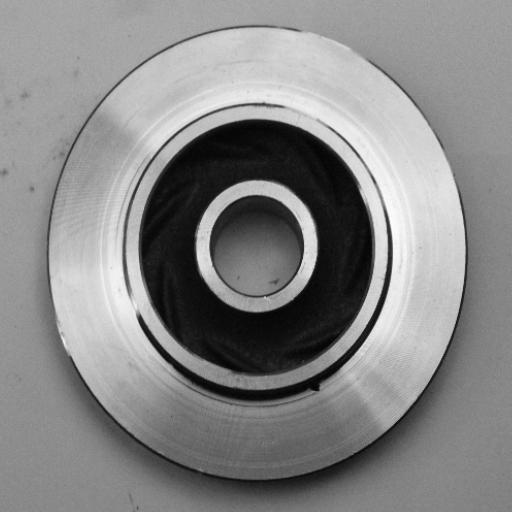crack: (298, 375, 337, 402)
scratch: (117, 271, 156, 334)
unpolished_casting: (47, 20, 468, 485)
